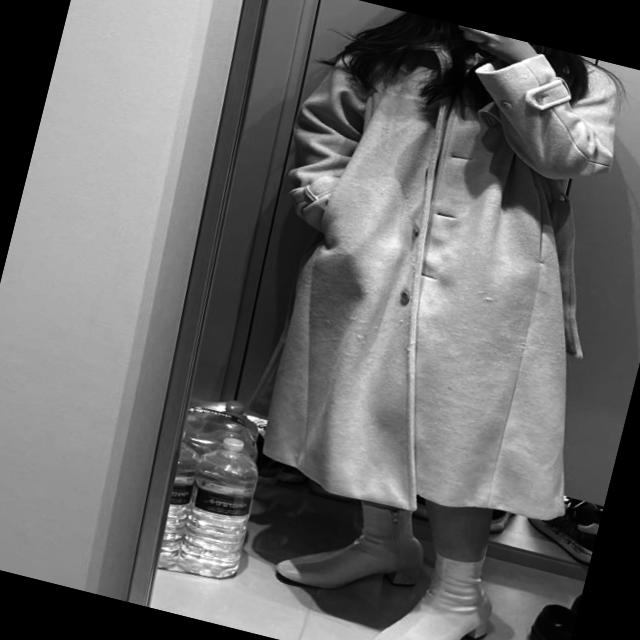coat: (212, 0, 640, 550)
